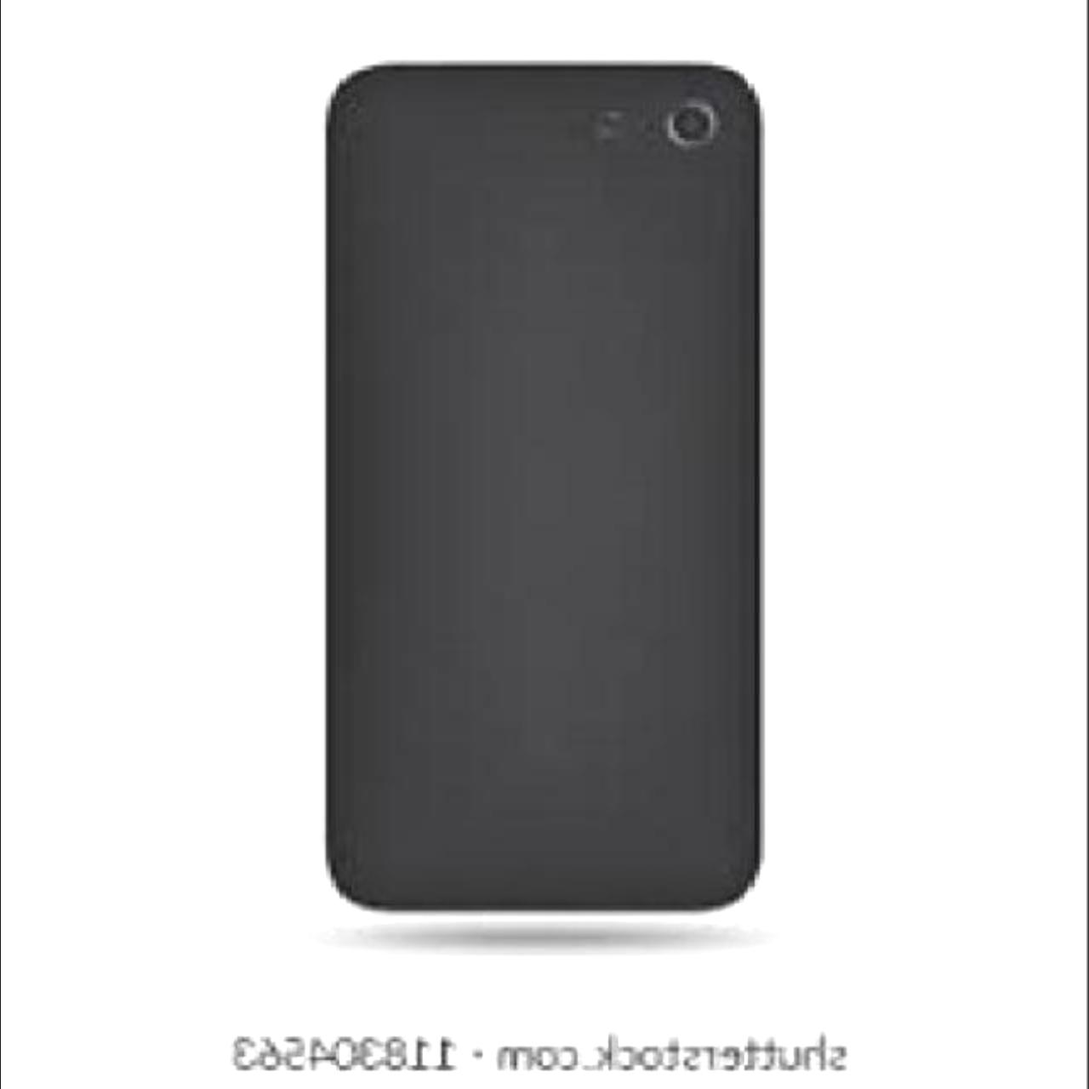phone: (327, 61, 762, 907)
